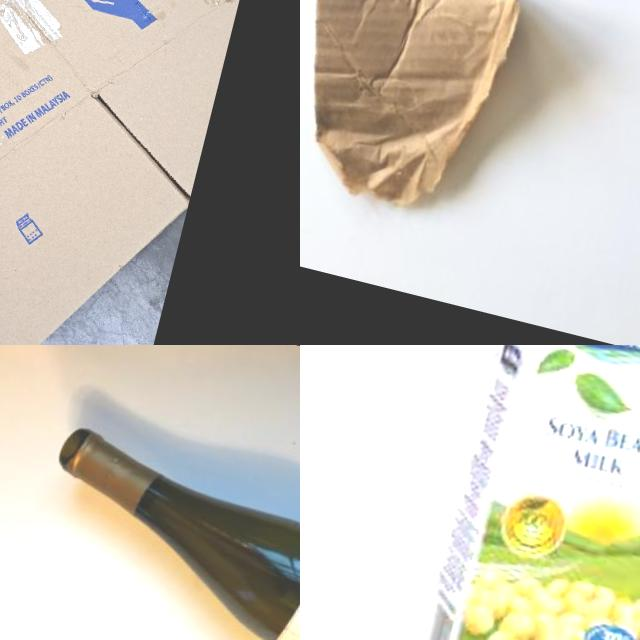caixinha: (413, 345, 640, 640)
garrafa de vidro: (16, 423, 300, 640)
papelão: (0, 0, 287, 345), (300, 0, 527, 227)
